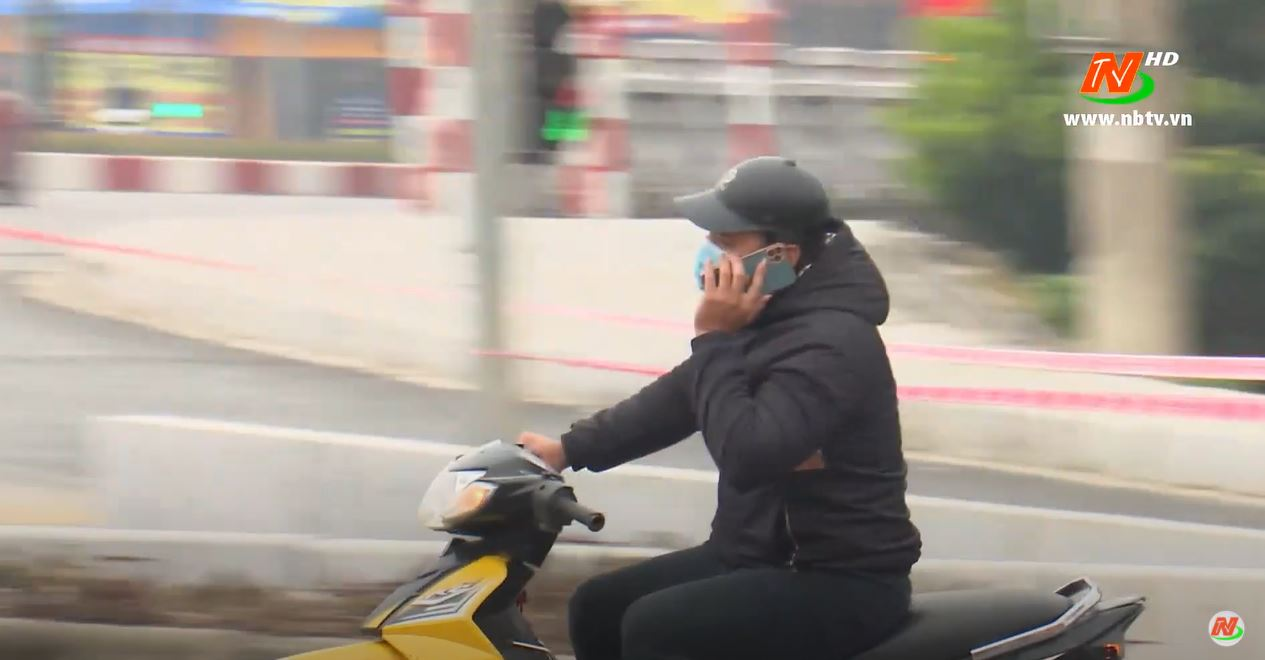dieu khien xe may: (363, 154, 891, 660)
su dung dien thoai: (684, 158, 828, 358)
